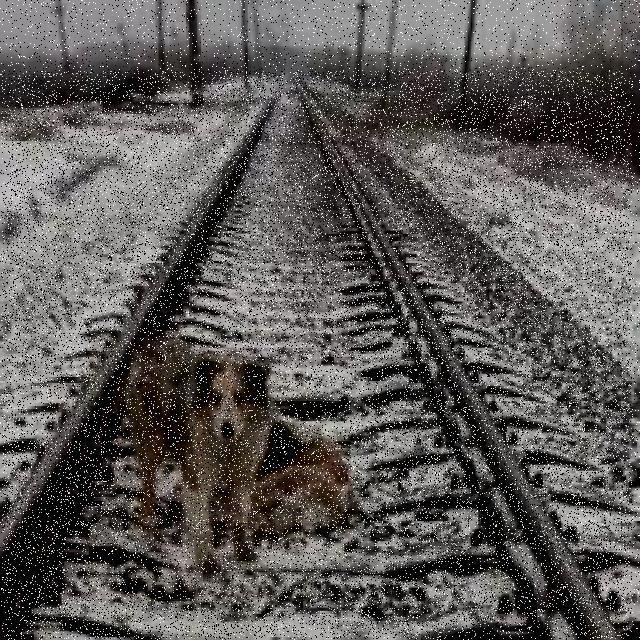rail: (3, 72, 633, 640)
